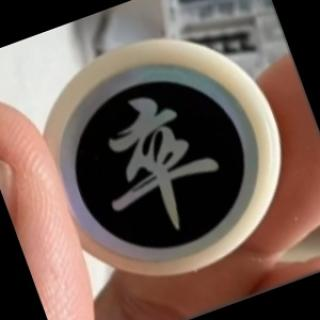qizi: (36, 42, 284, 274)
